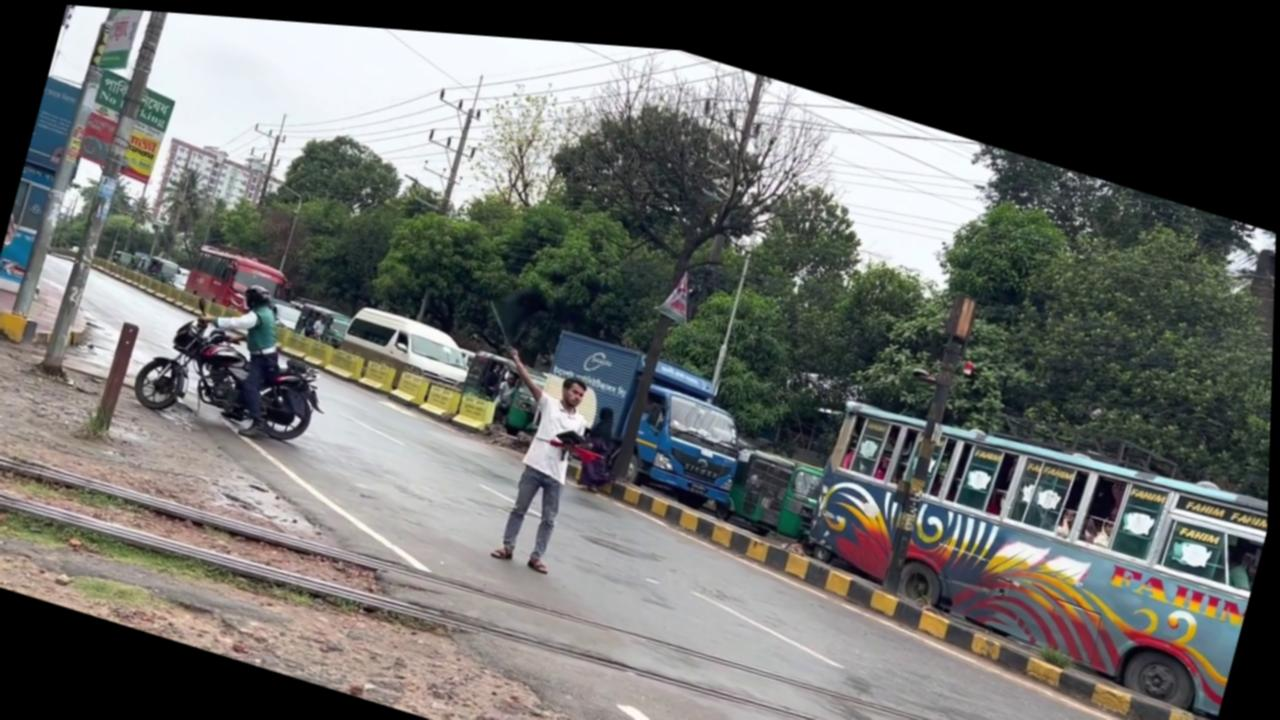Car: (564, 454, 1236, 720)
Curb: (129, 279, 346, 456)
Fence: (456, 333, 604, 569), (174, 264, 301, 437), (491, 360, 523, 418)
Garbage: (39, 3, 197, 386), (10, 1, 151, 329), (878, 269, 981, 586)
Motorcycle: (0, 415, 1206, 720)
Rickshaw: (788, 350, 1273, 703), (524, 314, 765, 510), (183, 235, 300, 321), (455, 337, 552, 432)
